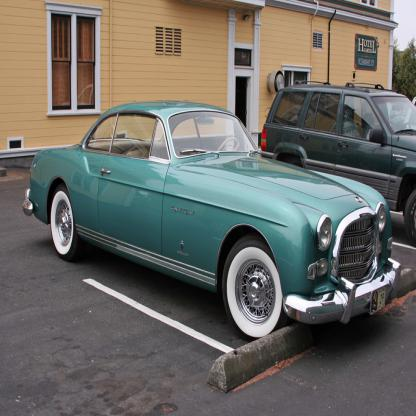Car: (20, 101, 404, 342), (261, 80, 415, 248)
